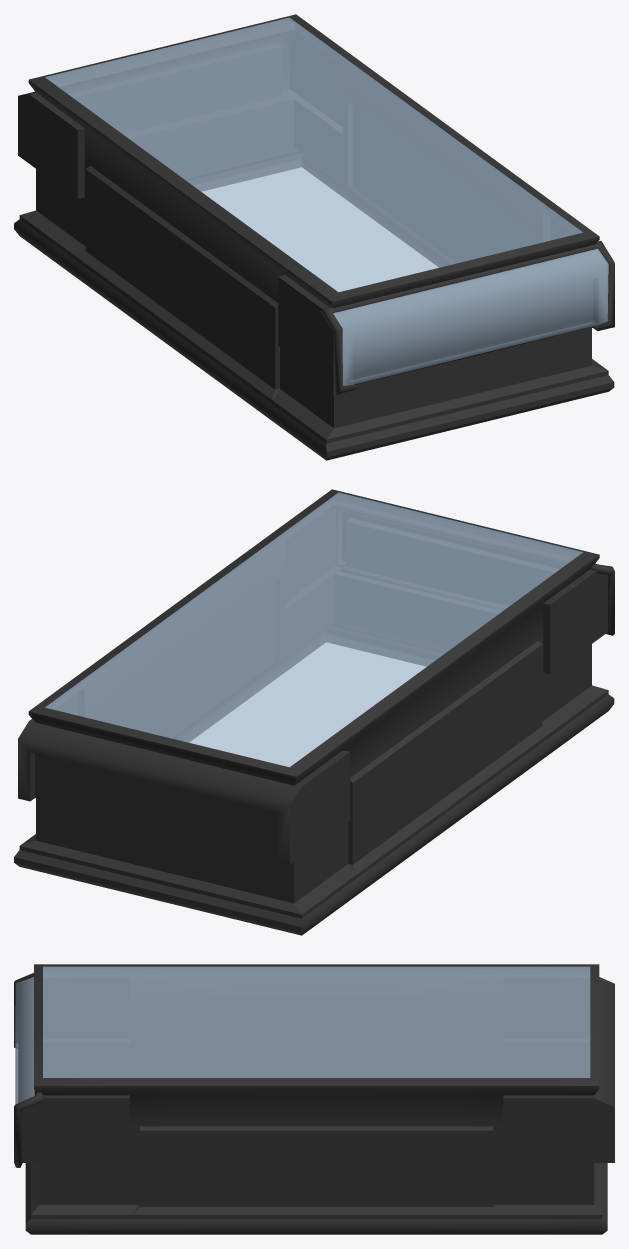
File: HolographicTable.FBX
3 renders of one model, top to bottom at view 1: azimuth 30°, elevation 25°; view 2: azimuth 150°, elevation 25°; view 3: azimuth 270°, elevation 25°, orthographic. The views are drawn at different scales.
Visible parts, largest first — view 1: Table; view 2: Table; view 3: Table.
Part boxes in pixels (x1,y1,x2,y2): Table: [14, 14, 614, 460]; Table: [14, 489, 614, 935]; Table: [14, 964, 614, 1234].
Size of the model in its own units: 178 by 346 by 94.23.
